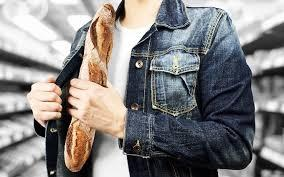shoplifting: (19, 0, 124, 177)
